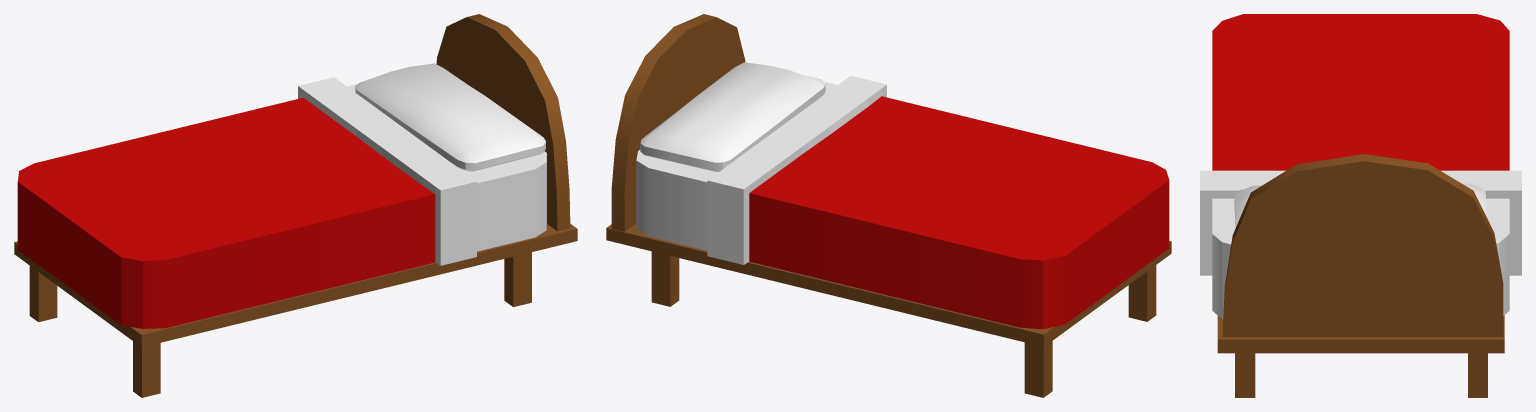
File: camaRoja.FBX
3 views of the same model, side by side, from view 1: azimuth 30°, elevation 25°; view 2: azimuth 150°, elevation 25°; view 3: azimuth 270°, elevation 25° (orthographic). The views are drawn at different scales.
Parts seen in each view (by area): view 1: Box001, Box002, Cylinder001, Box003, Box004, Box007, Box005; view 2: Box001, Box002, Cylinder001, Box003, Box005, Box006, Box004; view 3: Box001, Cylinder001, Box003, Box007, Box006, Box002.
Part boxes in pixels (x1,y1,x2,y2): Box001: (17, 77, 546, 328); Box002: (355, 63, 545, 171); Cylinder001: (436, 14, 570, 231); Box003: (14, 224, 577, 347); Box004: (133, 341, 160, 397); Box007: (504, 252, 531, 306); Box005: (29, 266, 57, 322); Box001: (636, 75, 1169, 329); Box002: (640, 62, 825, 171); Cylinder001: (611, 14, 745, 231); Box003: (606, 224, 1171, 346); Box005: (1024, 341, 1052, 397); Box006: (651, 251, 679, 306); Box004: (1128, 265, 1156, 321); Box001: (1200, 14, 1521, 319); Cylinder001: (1223, 154, 1503, 336); Box003: (1217, 315, 1504, 353); Box007: (1235, 353, 1255, 397); Box006: (1468, 353, 1487, 397); Box002: (1234, 183, 1486, 227).
Size of the model in its own units: 63.8 by 30.98 by 35.45.
4 materials, 3 textured.
